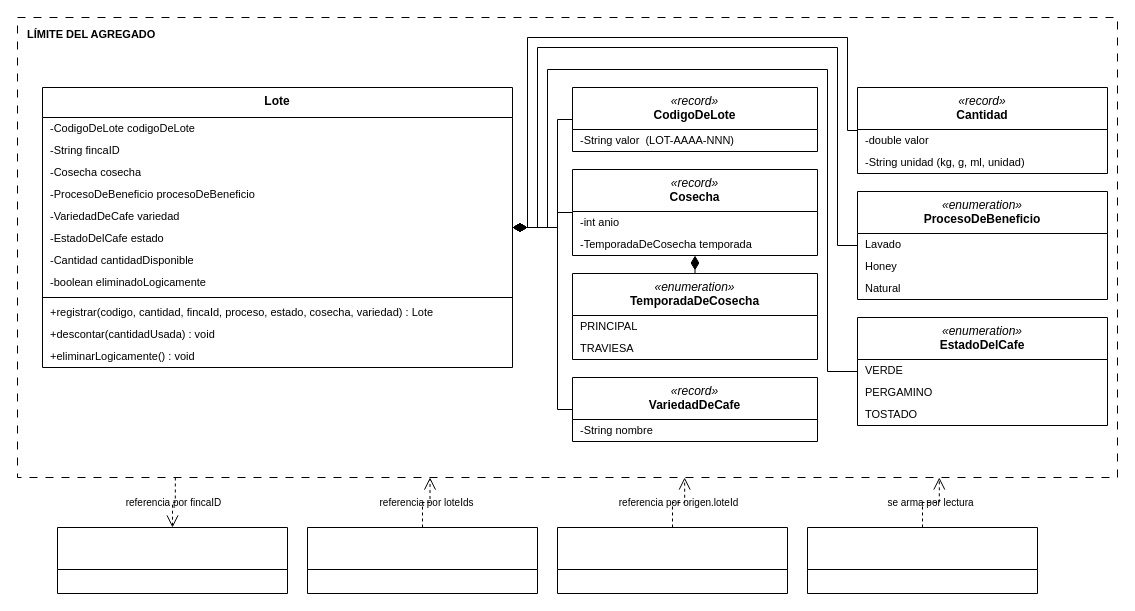
This 1135x611 diagram has some shape labels left out. The centre of each missing label's shape, as x and y in pixels:
«fuera del agregado» FichaDeOrigen: point (922, 560)
«fuera del agregado» Finca: point (172, 560)
«fuera del agregado» PresentacionTrazable: point (672, 560)
«fuera del agregado» Transformación: point (422, 560)
